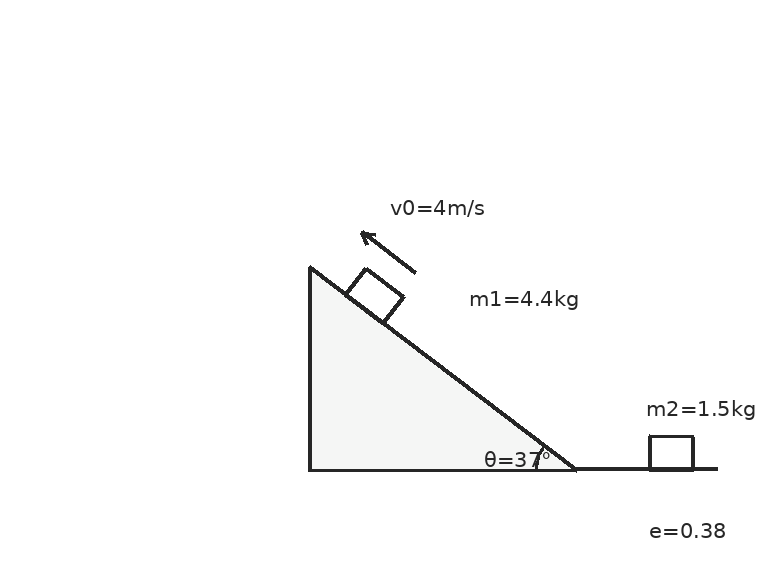block: (343, 266, 405, 325), (647, 435, 695, 471)
ramp: (306, 265, 578, 471)
